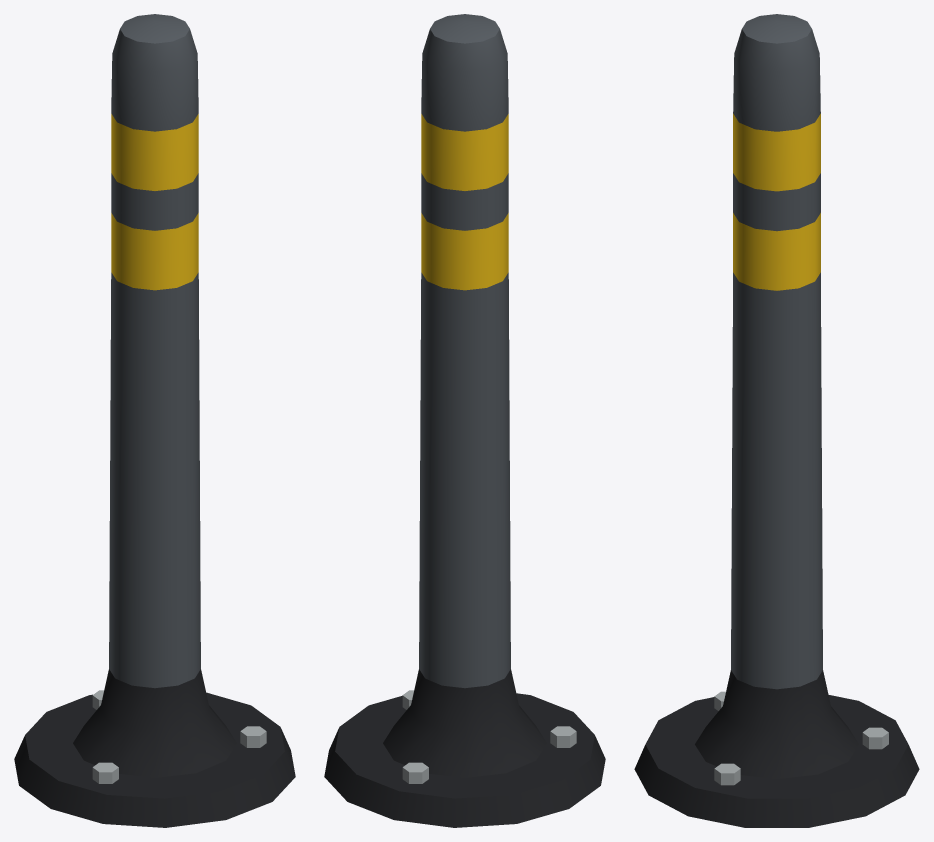
The model's file is SC_Util_Bollard_Flexible_Gray.gltf.
3 renders of one model, left to right at view 1: azimuth 30°, elevation 25°; view 2: azimuth 150°, elevation 25°; view 3: azimuth 270°, elevation 25°, orthographic.
Parts seen in each view (by area): view 1: SC_Util_Bollard_Flexible_Gray; view 2: SC_Util_Bollard_Flexible_Gray; view 3: SC_Util_Bollard_Flexible_Gray.
Part boxes in pixels (bbox=[...]): SC_Util_Bollard_Flexible_Gray: bbox=[14, 14, 295, 827]; SC_Util_Bollard_Flexible_Gray: bbox=[324, 14, 605, 827]; SC_Util_Bollard_Flexible_Gray: bbox=[634, 14, 919, 827].
Bounding box in the file's own units: 0.2535 × 0.752 × 0.26.
1 material, 1 textured.
